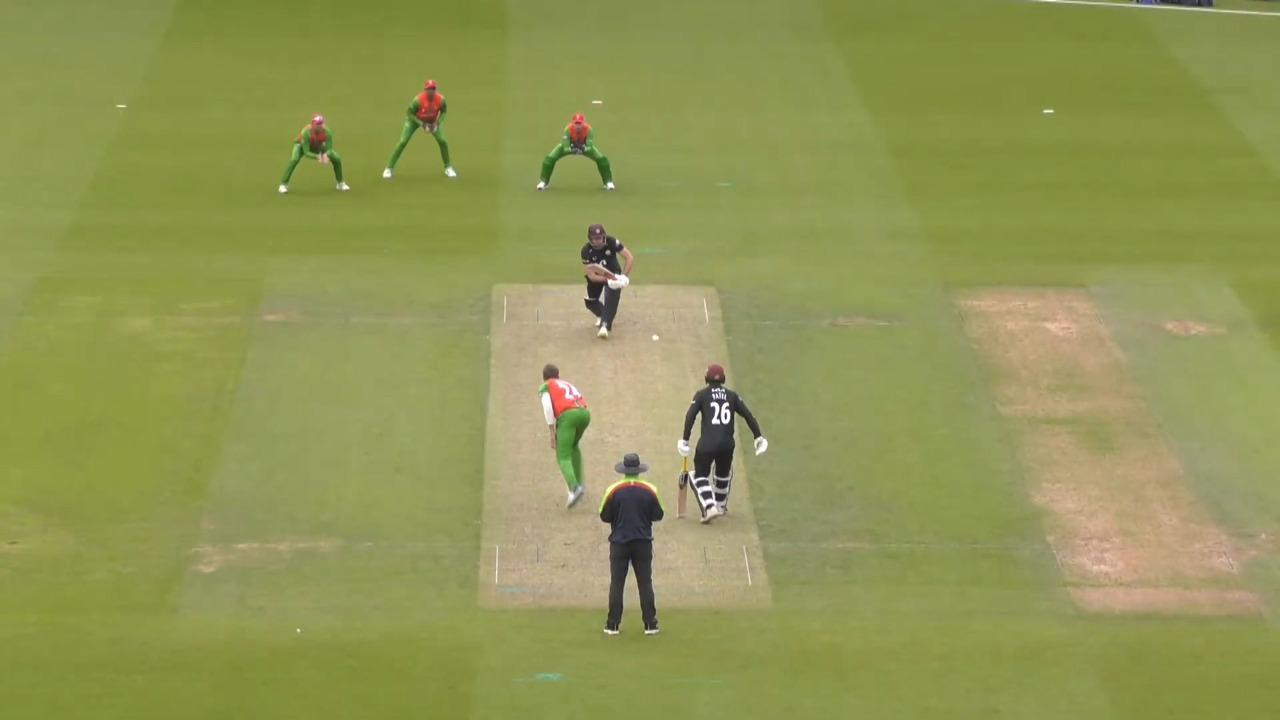sports ball: (653, 335, 658, 340)
